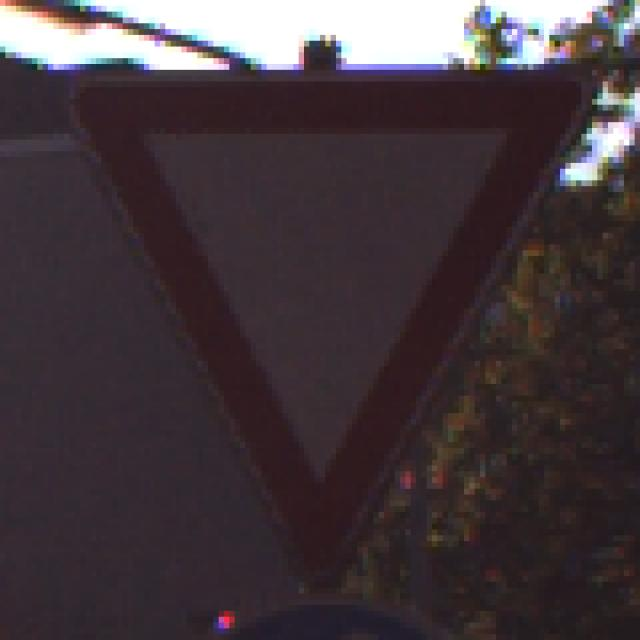Give Way: (60, 59, 588, 589)
